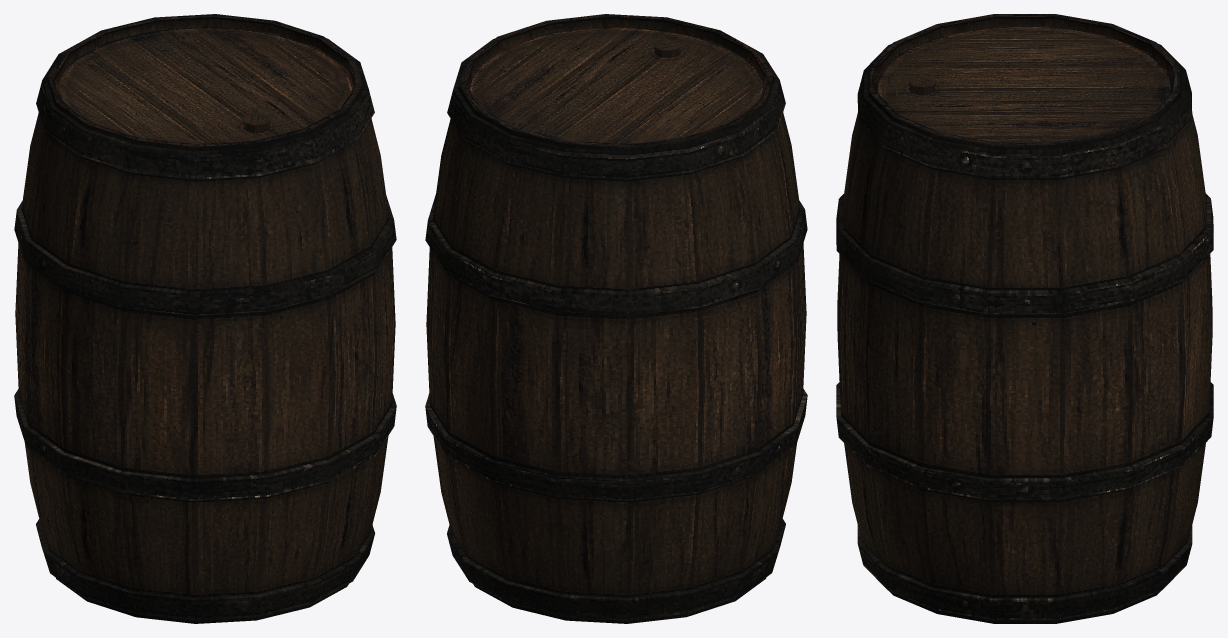
File: wooden_barrel_1.glb
3 views of the same model, side by side, from view 1: azimuth 30°, elevation 25°; view 2: azimuth 150°, elevation 25°; view 3: azimuth 270°, elevation 25° (orthographic).
Visible parts, largest first — view 1: wooden_barrel_1; view 2: wooden_barrel_1; view 3: wooden_barrel_1.
Part boxes in pixels (left/top/right/bottom): wooden_barrel_1: left=14, top=14, right=396, bottom=623; wooden_barrel_1: left=425, top=14, right=807, bottom=623; wooden_barrel_1: left=836, top=14, right=1213, bottom=623.
Bounding box in the file's own units: 0.7863 × 1.1 × 0.7863.
Materials: 1 (1 with a texture image).
